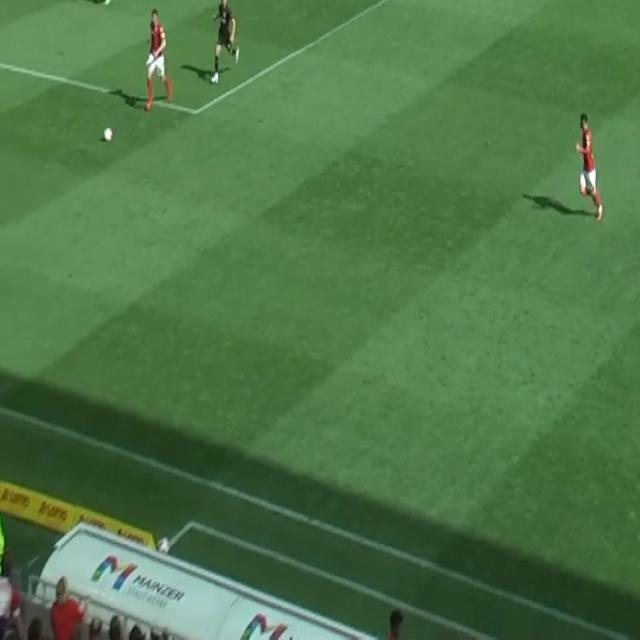ball: (103, 126, 113, 144)
